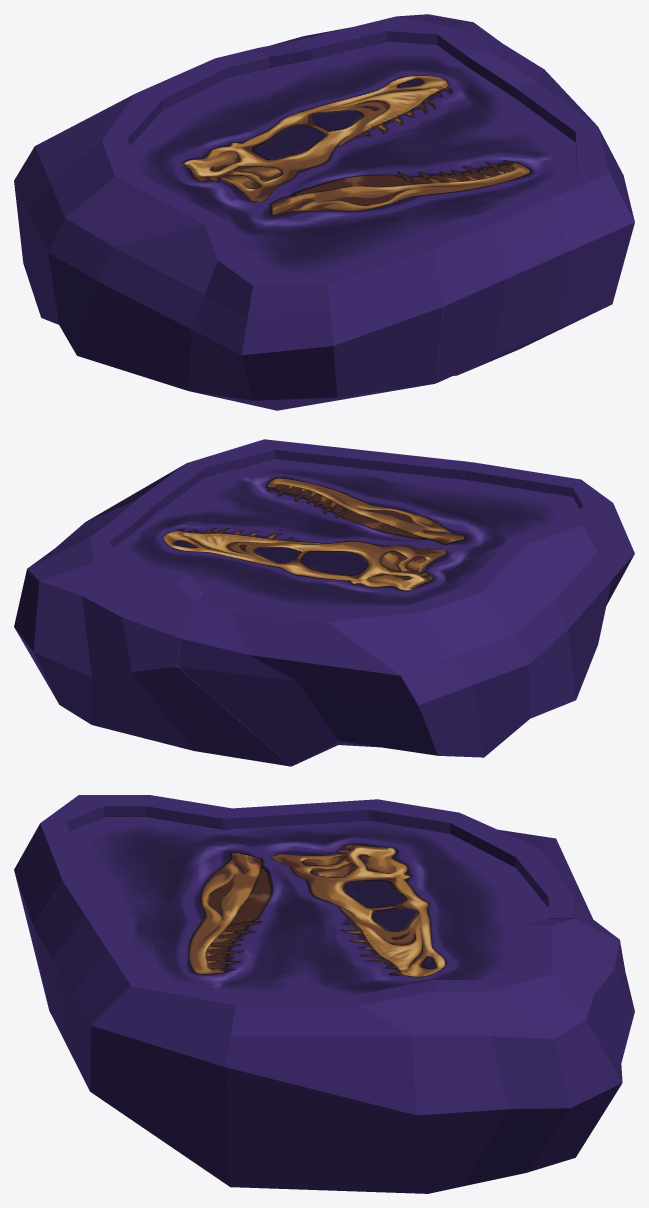
The model's file is rockNodeSkull.fbx.
3 renders of one model, top to bottom at view 1: azimuth 30°, elevation 25°; view 2: azimuth 150°, elevation 25°; view 3: azimuth 270°, elevation 25°, orthographic. The views are drawn at different scales.
Parts seen in each view (by area): view 1: Cube; view 2: Cube; view 3: Cube.
Boxes of the visible parts, <box> form: Cube: <box>14,14,634,410</box>; Cube: <box>14,439,634,766</box>; Cube: <box>14,795,634,1193</box>.
Size of the model in its own units: 842 by 295 by 800.
1 material, 1 textured.
